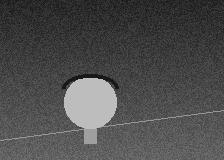no_helmet: (64, 74, 116, 133)
